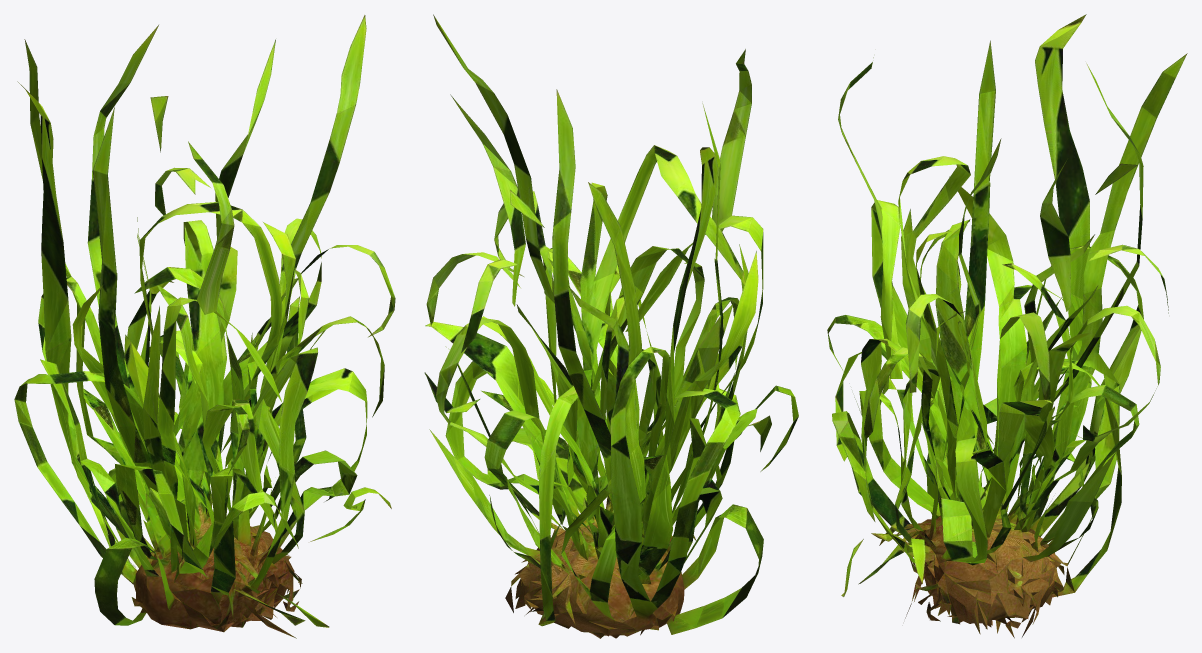
The model's file is plant-eelgrass.glb.
3 renders of one model, left to right at view 1: azimuth 30°, elevation 25°; view 2: azimuth 150°, elevation 25°; view 3: azimuth 270°, elevation 25°, orthographic. The views are drawn at different scales.
Bounding box in the file's own units: 0.7675 × 1.3 × 0.7723.
Materials: 1 (1 with a texture image).
